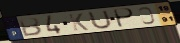0: (138, 6, 157, 26)
4: (46, 14, 64, 35)
B: (18, 17, 44, 37)
K: (67, 13, 90, 32)
P: (114, 8, 136, 29)
U: (88, 9, 114, 31)
